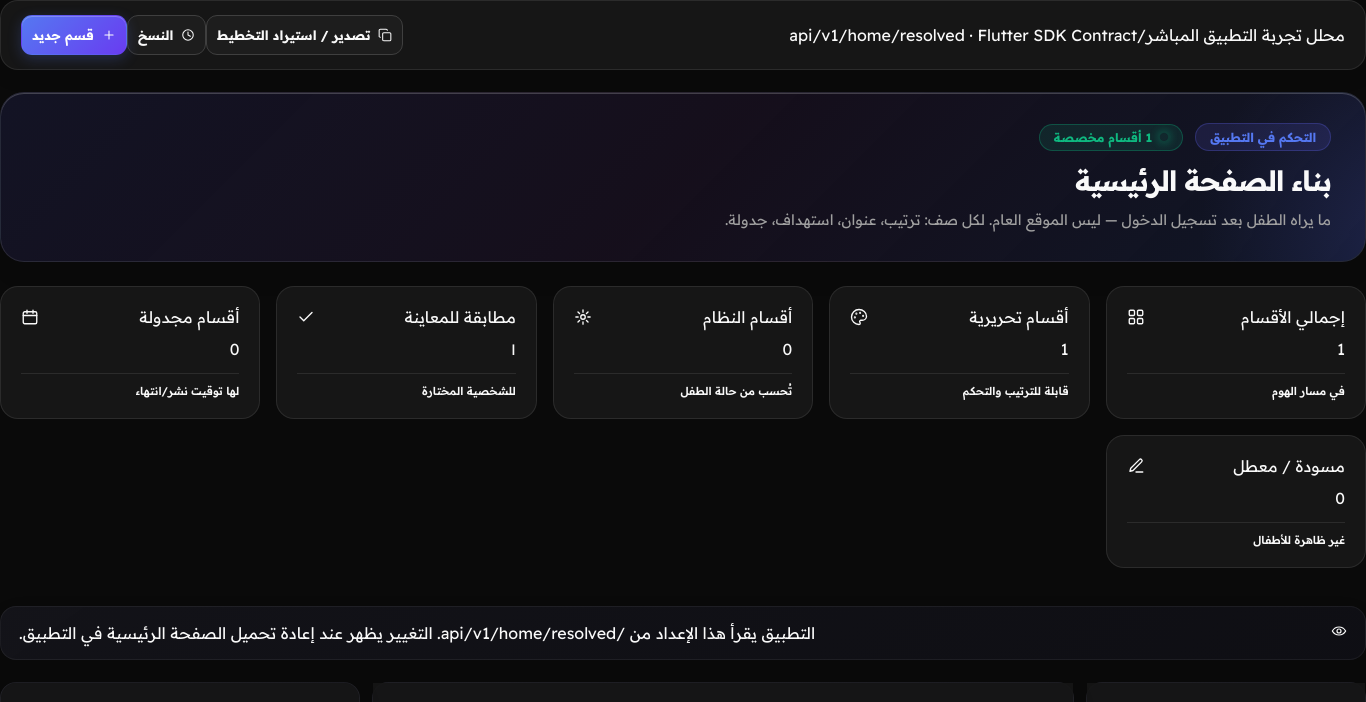
Test: Home Builder › الأنواع المعروضة هي ما يقبله الخادم لا قائمة مكتوبة في الواجهة
This screenshot has width=1366, height=702.
Step 1. Click the button "قسم جديد" → (74, 35), box [21,15,127,55]
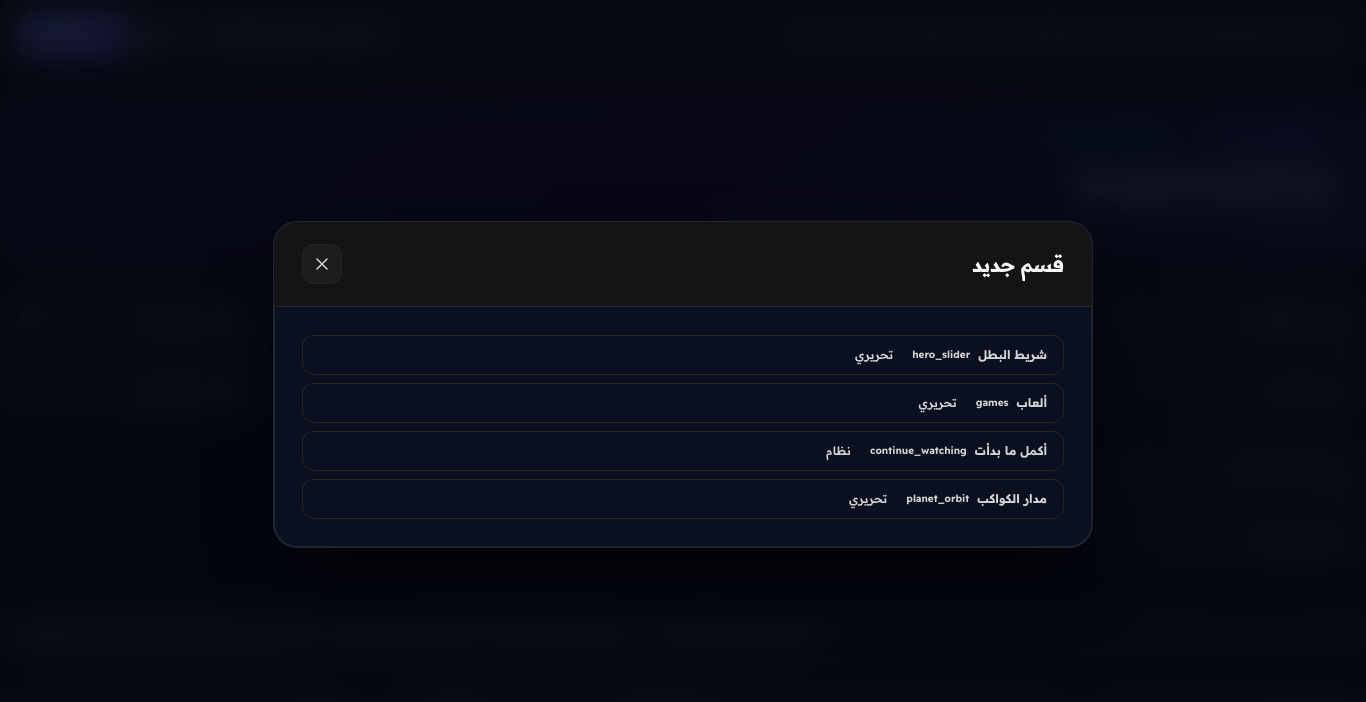
Now the text "games" is shown, box [976,398,1008,408]
Now the text "continue_watching" is shown, box [870,446,967,456]
Now the text "planet_orbit" is shown, box [906,494,969,504]
